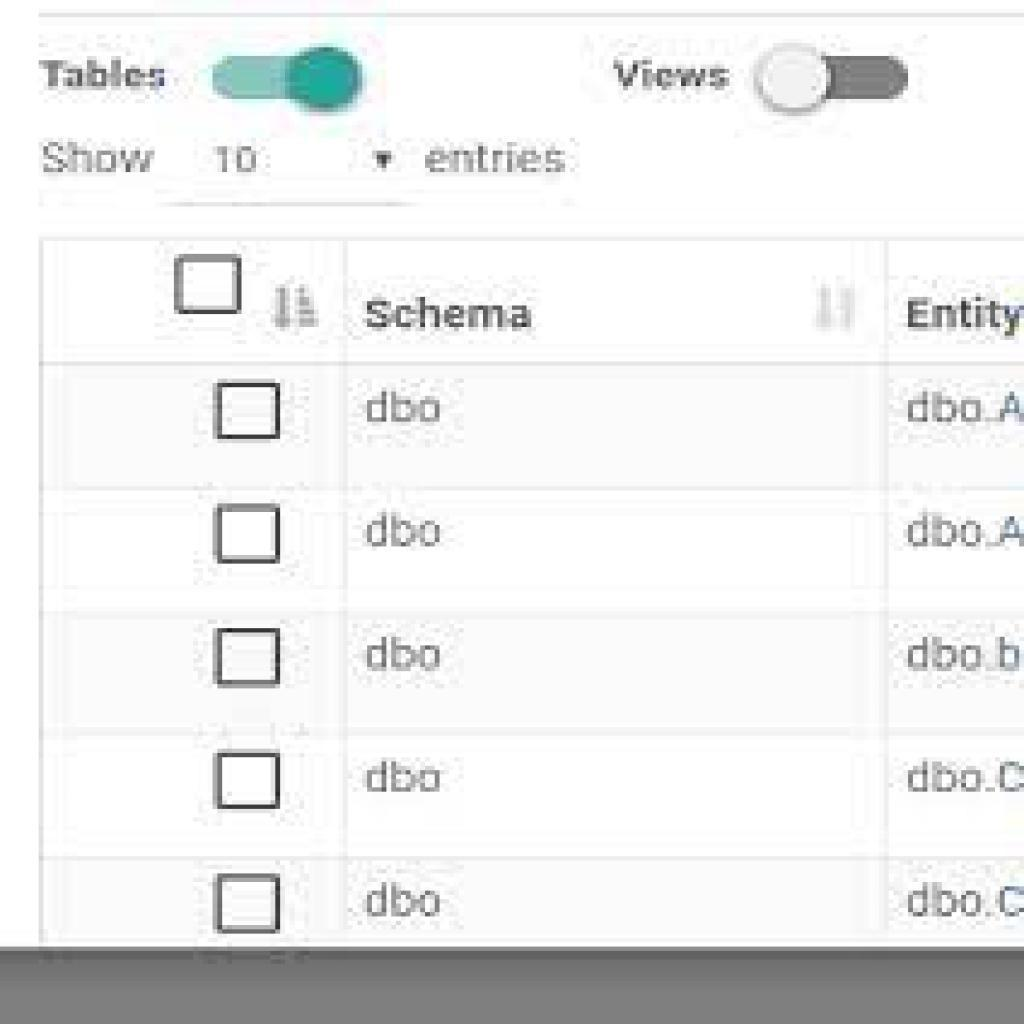checkbox: (213, 381, 278, 444), (219, 627, 280, 685), (219, 506, 277, 564), (179, 257, 238, 313), (219, 877, 281, 930), (220, 760, 276, 809)
switch: (749, 19, 945, 136), (181, 39, 386, 127)
table: (43, 243, 1024, 947)
